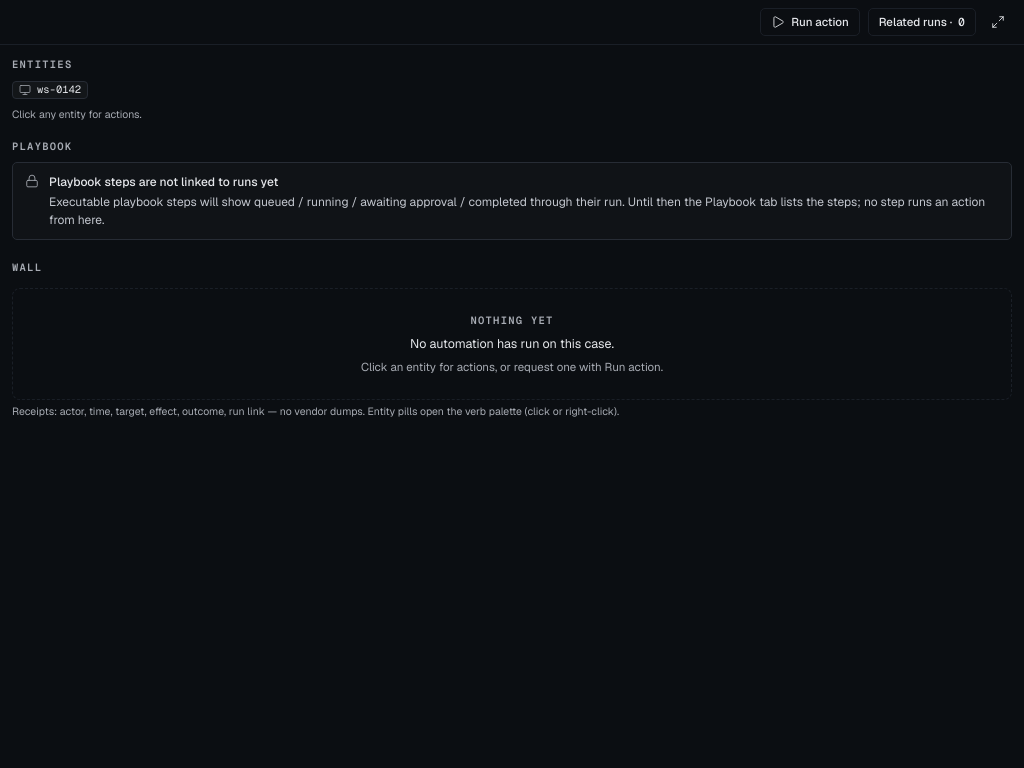
Scenario: right-click opens the palette too; Escape closes it
expect the text "No automation has run on this case." is shown: met, box [410,335,614,352]
Right-click the button with aria-label "Actions for ws-0142".
right_click(50, 90)  # box [12,81,88,99]
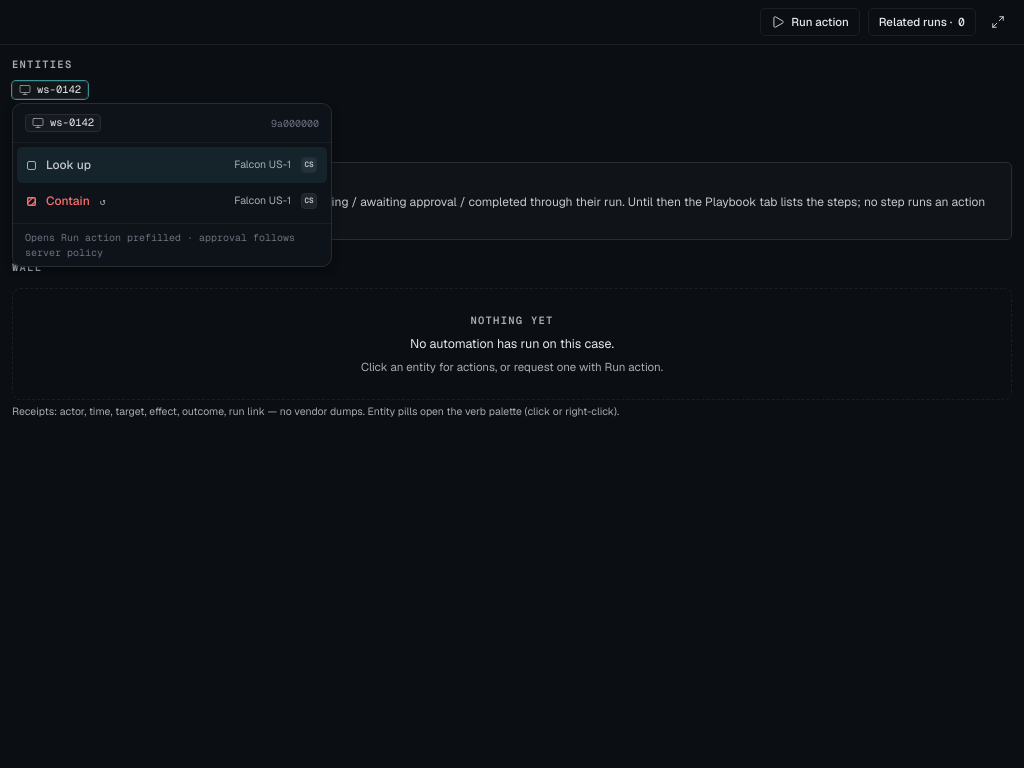
expect the text "Opens Run action prefilled · approval follows server policy" is shown: met, box [13,223,331,266]
Press Escape in the dialog with test id "verb-palette", box [12,103,332,267]
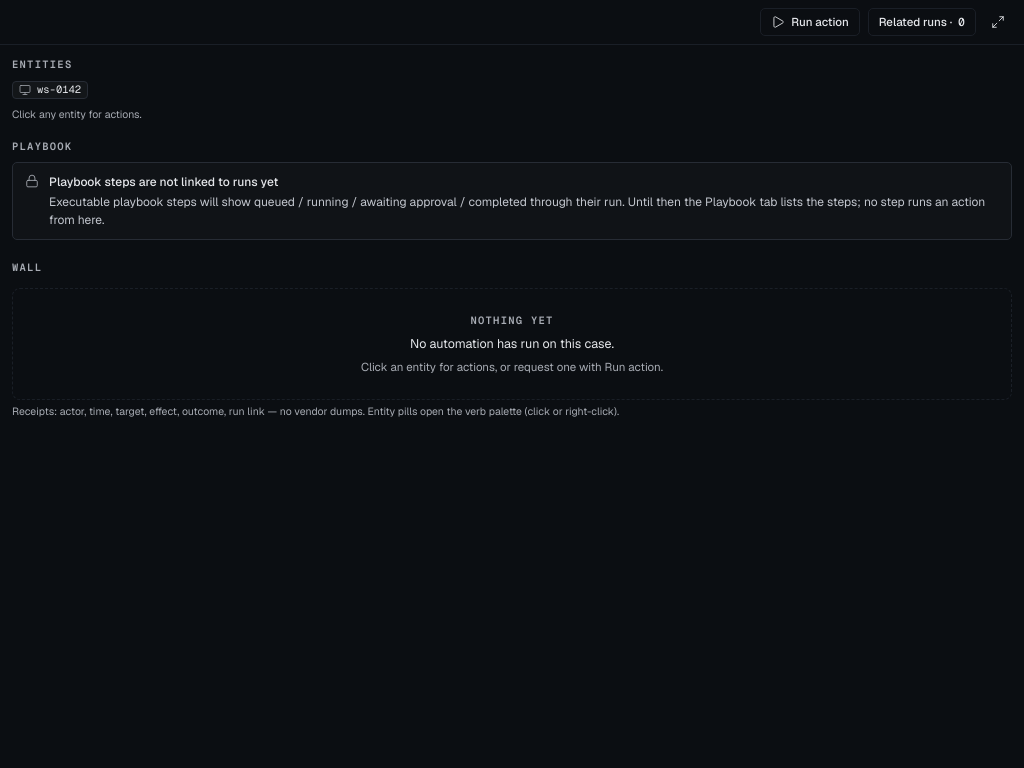
expect the dialog with test id "verb-palette" is gone: met
